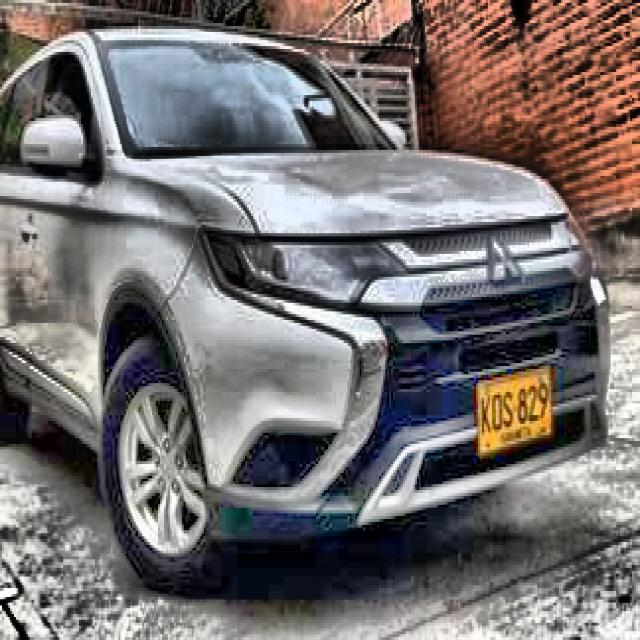plate: (477, 368, 552, 454)
